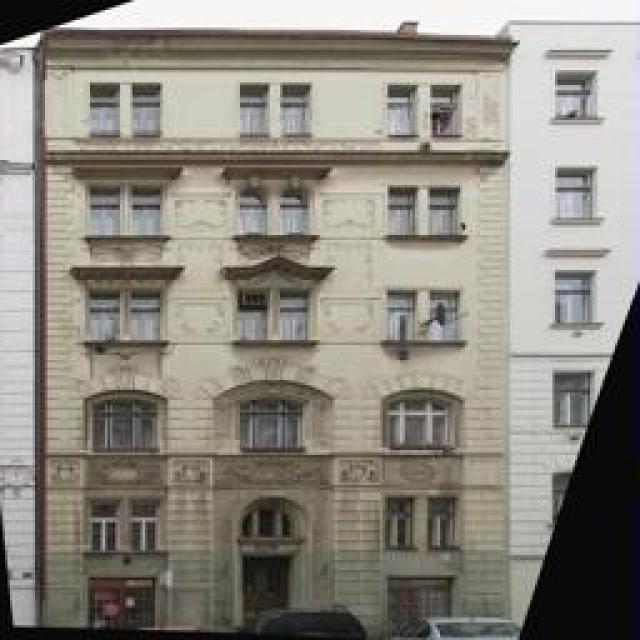building: (40, 30, 518, 638)
